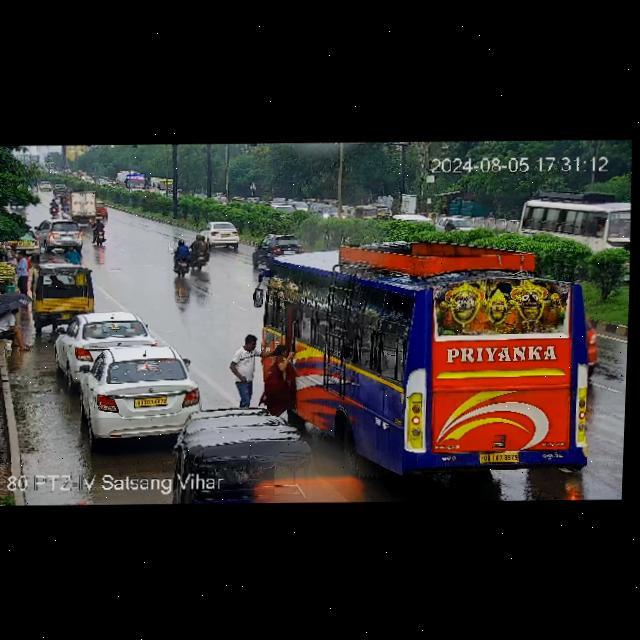bus: (248, 230, 611, 443), (522, 190, 632, 258)
car: (182, 403, 314, 504), (78, 343, 203, 439), (61, 313, 153, 378), (30, 262, 96, 322), (251, 232, 300, 267), (37, 217, 85, 247), (197, 220, 242, 246), (96, 200, 109, 218)
motorcycle: (169, 239, 194, 276), (192, 233, 211, 270), (90, 218, 110, 245), (47, 196, 58, 217), (35, 179, 52, 192), (61, 191, 68, 205)
person: (235, 333, 261, 409), (0, 303, 36, 353), (266, 341, 290, 413), (8, 248, 34, 290), (65, 243, 81, 262)
truck: (68, 191, 97, 218)
